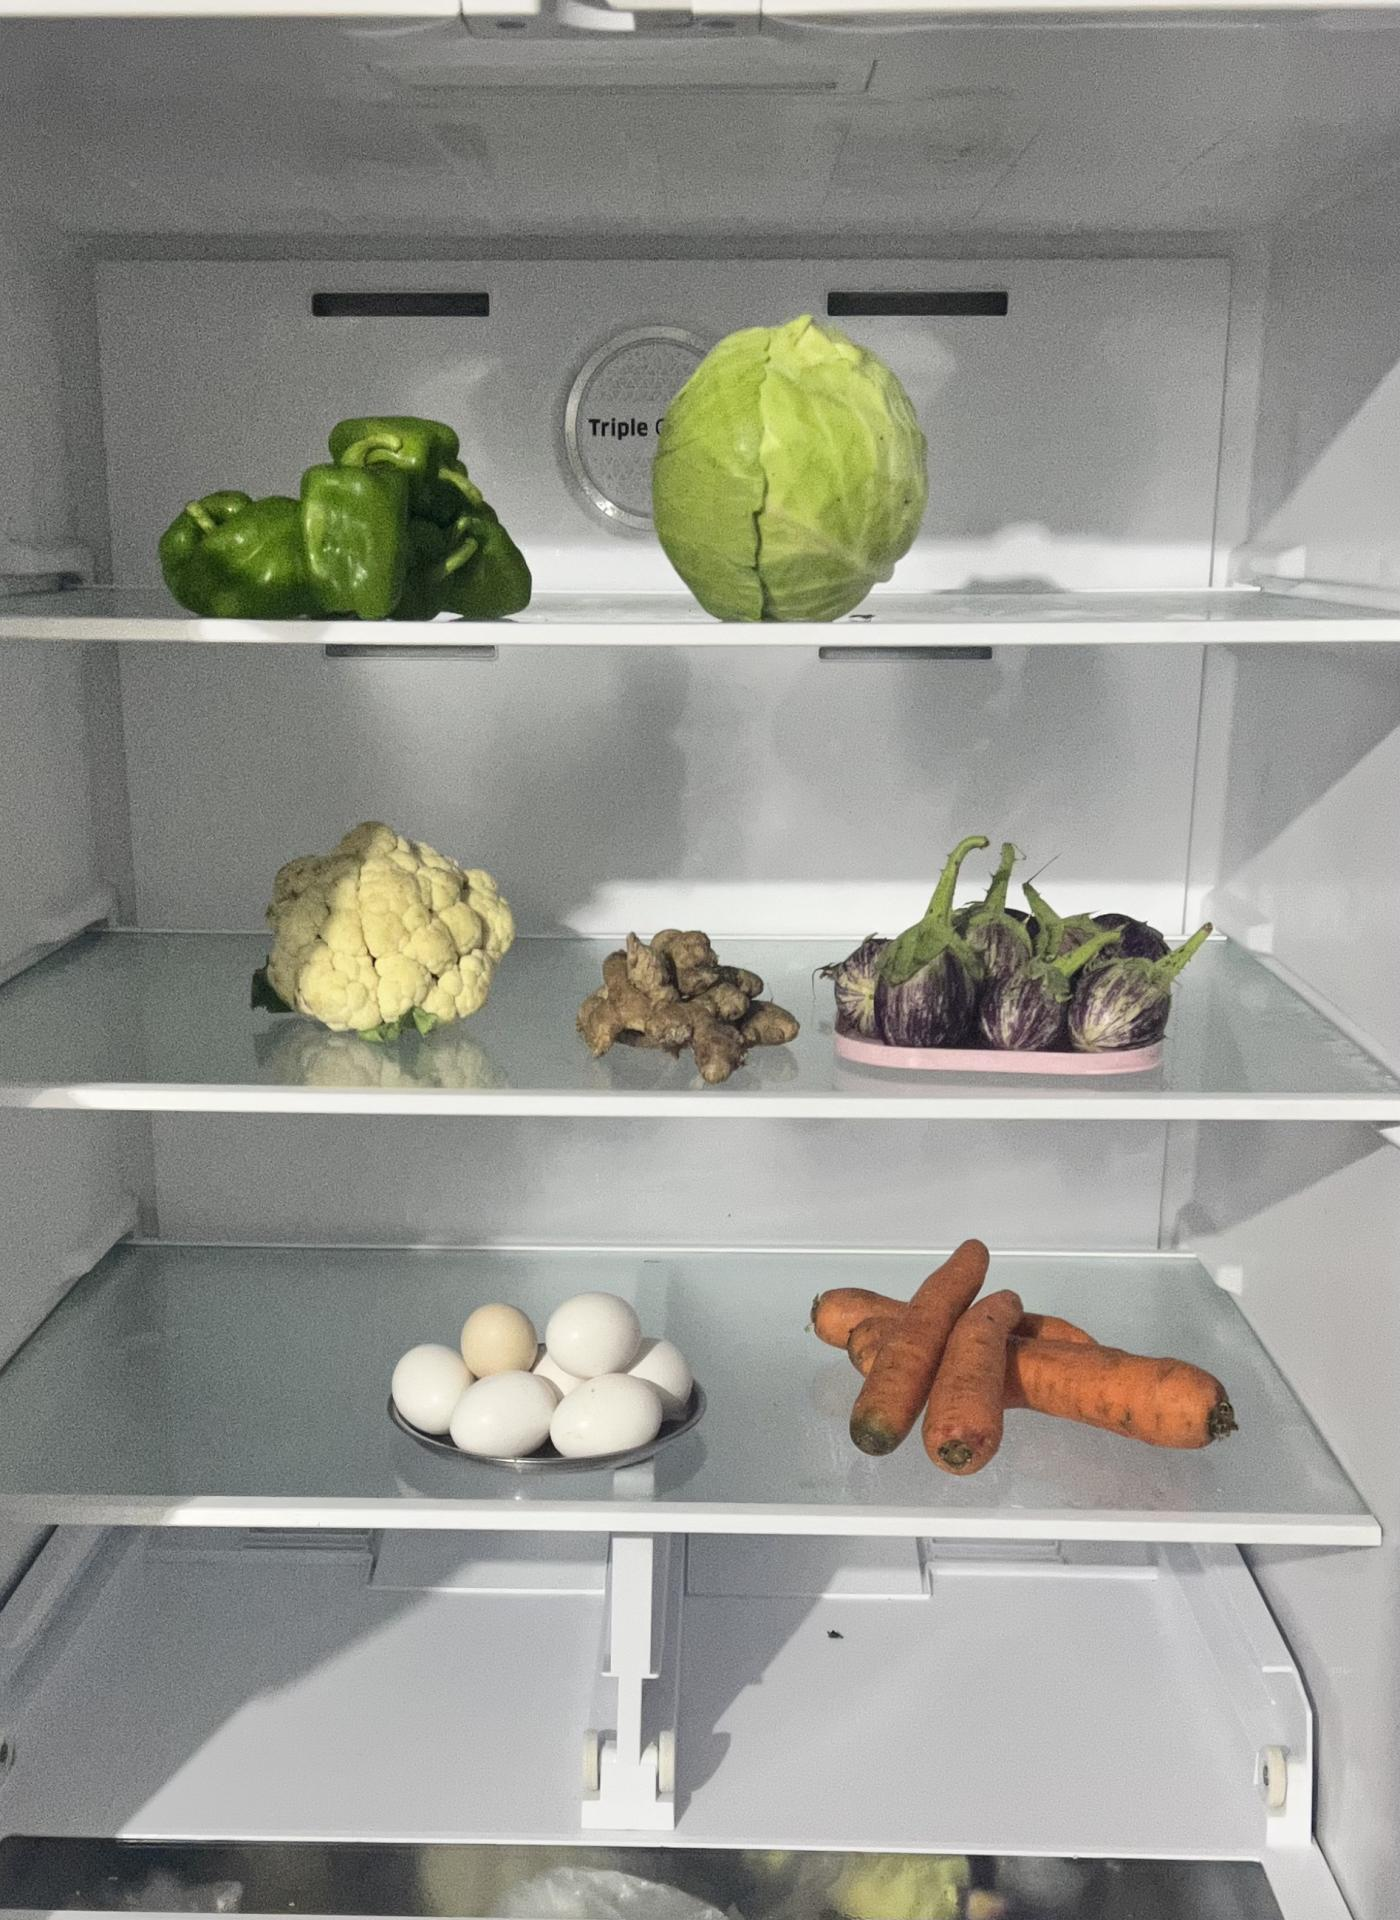brinjal: (824, 882, 1175, 1040)
cabbage: (652, 323, 930, 623)
capsicum: (149, 404, 528, 614)
carrots: (810, 1239, 1237, 1473)
cauliflower: (264, 818, 514, 1026)
egg: (404, 1288, 708, 1458)
ginger: (574, 924, 801, 1076)
